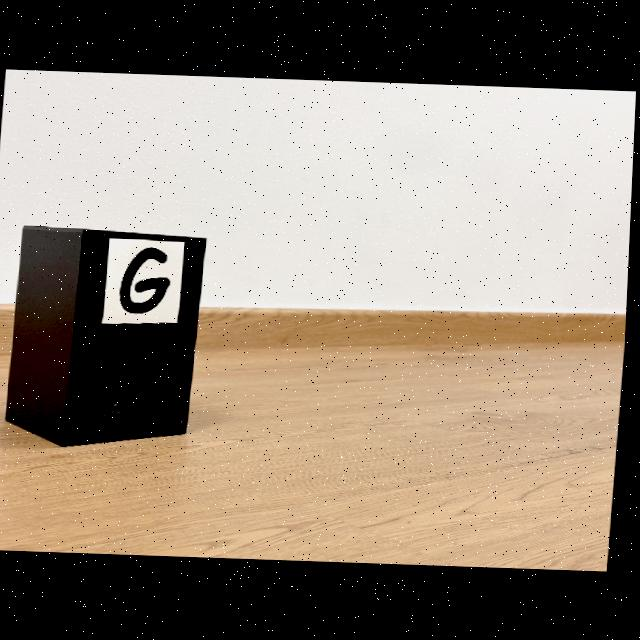G: (122, 247, 172, 313)
